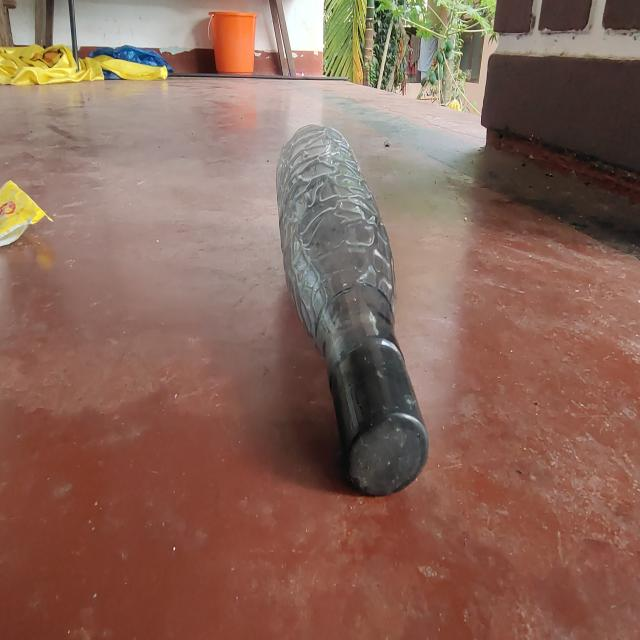plastic: (274, 118, 432, 498)
